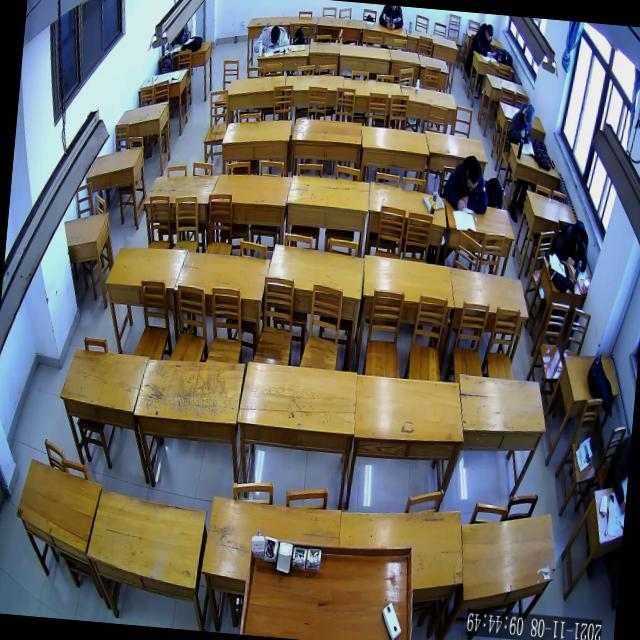bow: (442, 153, 491, 215), (552, 218, 590, 272), (252, 23, 290, 55)
down: (464, 158, 479, 192), (522, 105, 534, 126), (268, 24, 280, 44), (484, 24, 494, 41)
sit: (507, 102, 535, 145), (472, 22, 499, 58)
